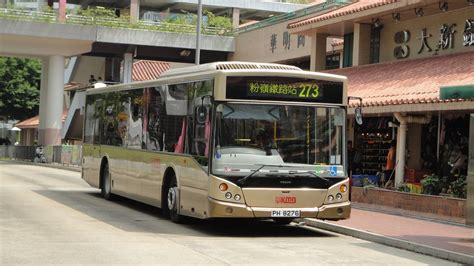bus: (83, 65, 350, 225)
